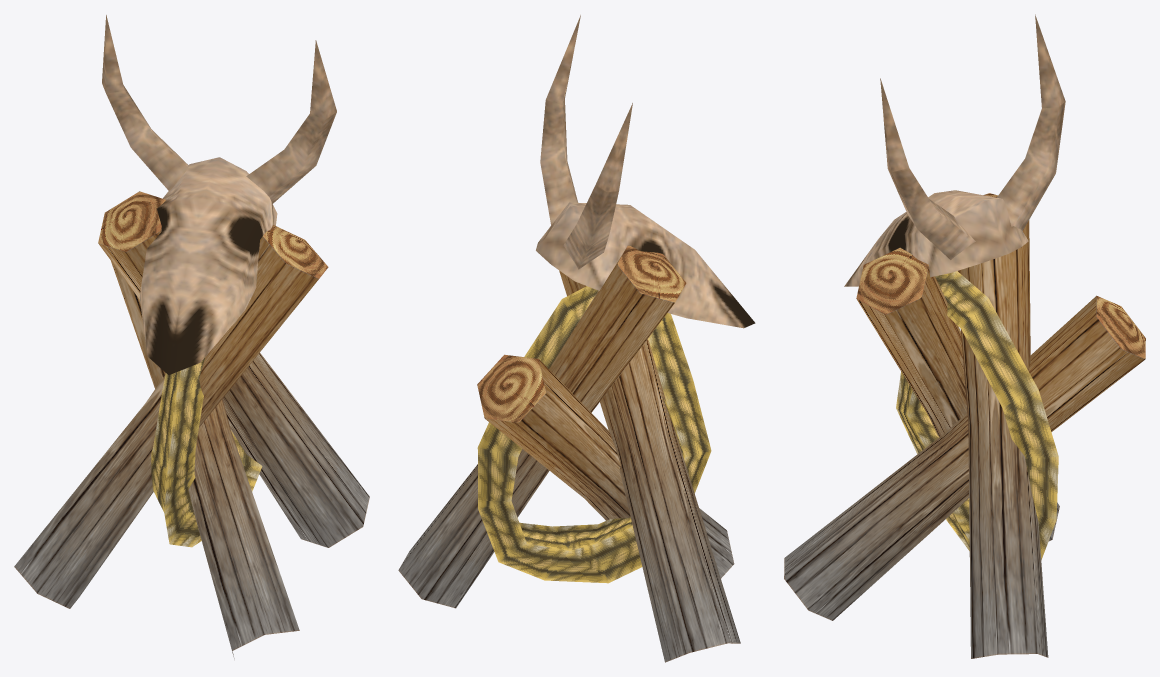
The picture shows the model from 3 angles, left to right: view 1: azimuth 30°, elevation 25°; view 2: azimuth 150°, elevation 25°; view 3: azimuth 270°, elevation 25°; orthographic projection.
Visible parts, largest first — view 1: posts, skull, skull_horns, rope, caps; view 2: posts, rope, skull, skull_horns, caps; view 3: posts, rope, skull_horns, skull, caps.
Boxes of the visible parts, box(x1,y1,x2,y2) form: posts: box(14, 228, 369, 659); skull: box(139, 157, 277, 375); skull_horns: box(102, 15, 336, 203); rope: box(151, 358, 262, 547); caps: box(98, 191, 328, 278); posts: box(398, 251, 740, 662); rope: box(477, 286, 711, 583); skull: box(536, 202, 755, 328); skull_horns: box(540, 15, 632, 269); caps: box(477, 245, 686, 422); posts: box(784, 220, 1145, 658); rope: box(896, 271, 1058, 559); skull_horns: box(880, 14, 1065, 259); skull: box(844, 190, 1028, 286); caps: box(856, 193, 1145, 358).
Size of the model in its own units: 131 by 215 by 122.
5 materials, 5 textured.
